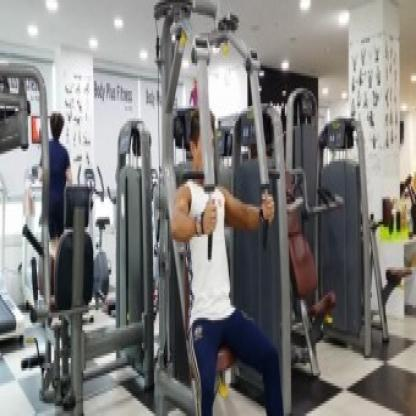chest fly machine: (145, 0, 292, 416)
